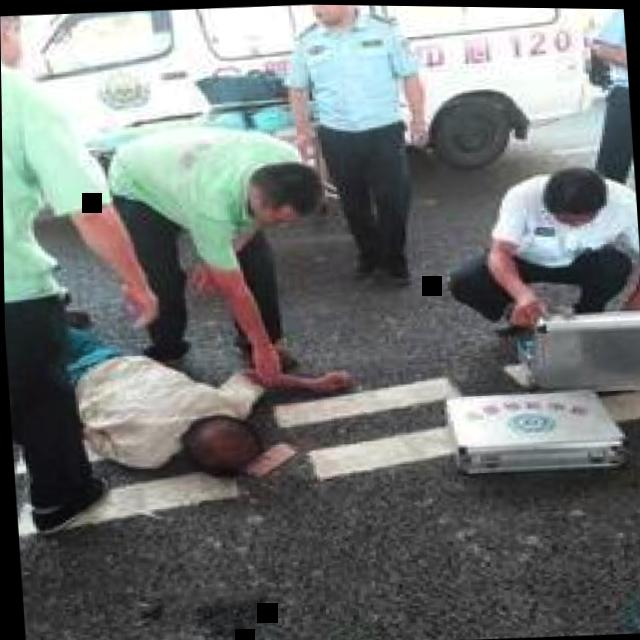Fall-Detected: (3, 275, 359, 511)
